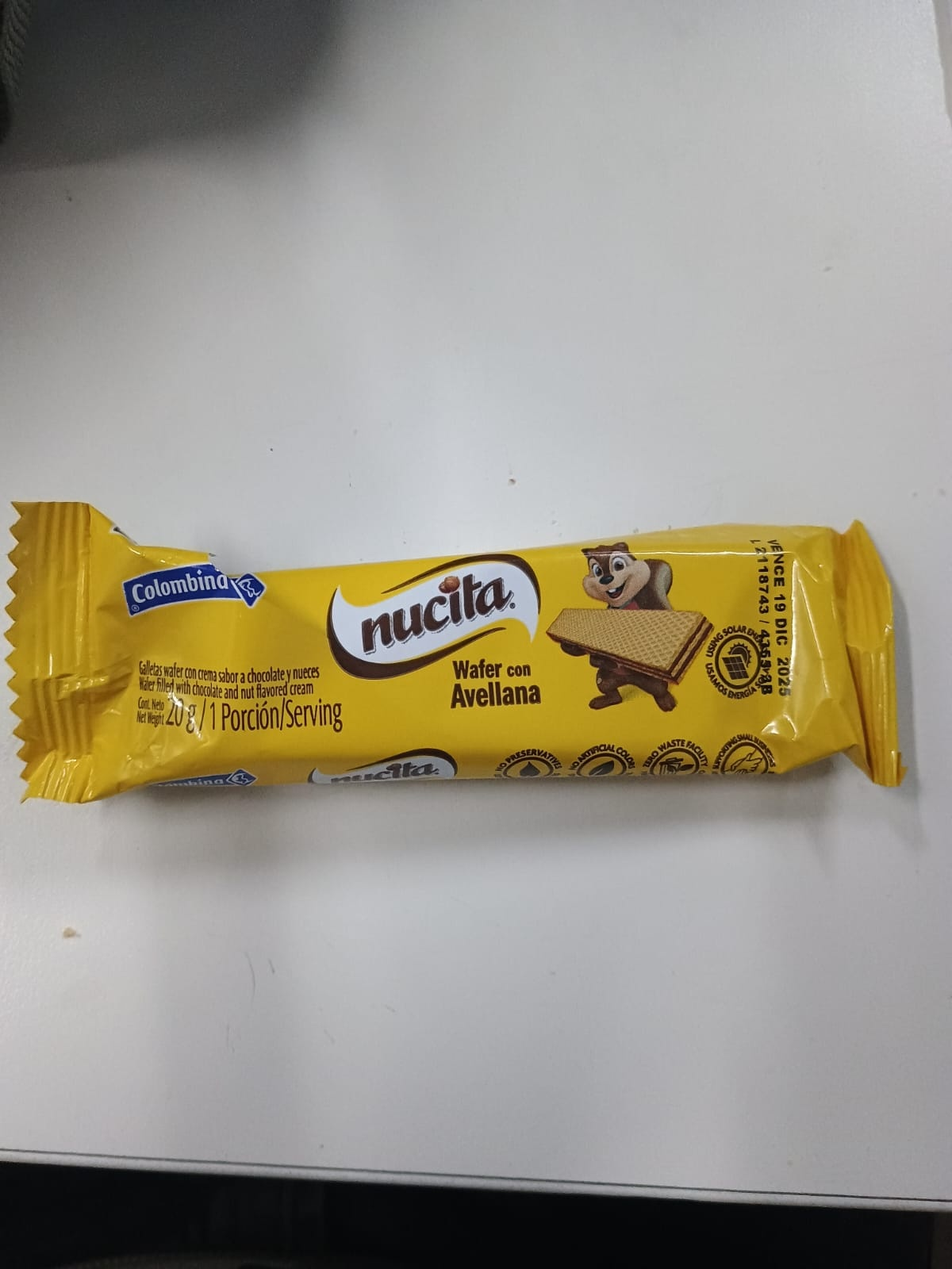Ordinario: (9, 501, 906, 802)
